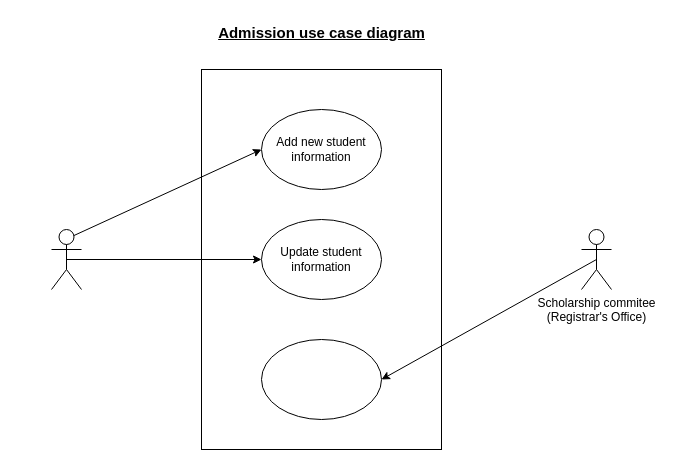
Some shapes in this 673 by 467 pixel diagram are drawn without their labels. The centre of each missing label's shape, as x and y in pixels:
"Admission Officer (Registrar's Office)" goes at (66,259).
"View eligible student (AES or Hecas)" goes at (321,379).
